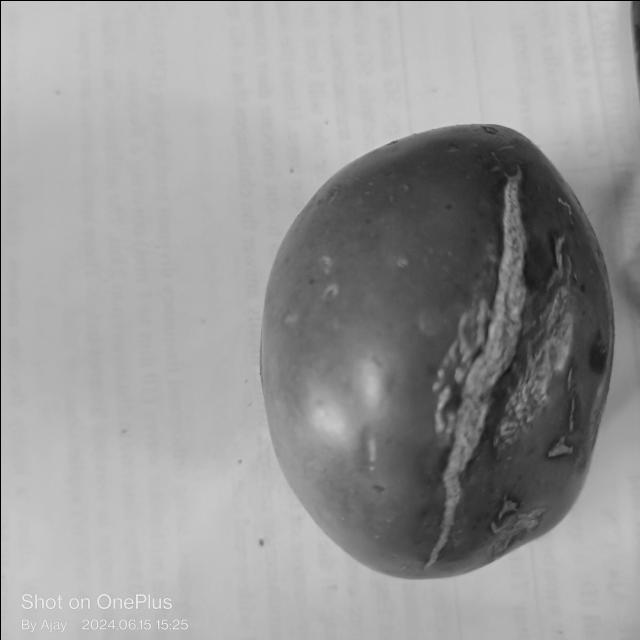tomato_cracking: (411, 158, 539, 572)
